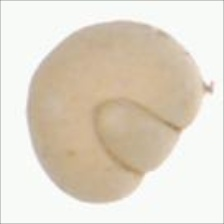L5: (90, 96, 187, 180), (34, 31, 77, 78)
L6: (23, 17, 215, 206)
